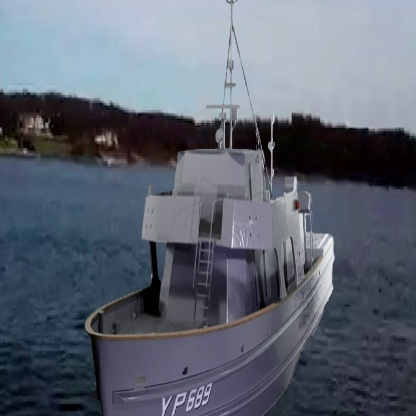YP689: (82, 0, 335, 416)
